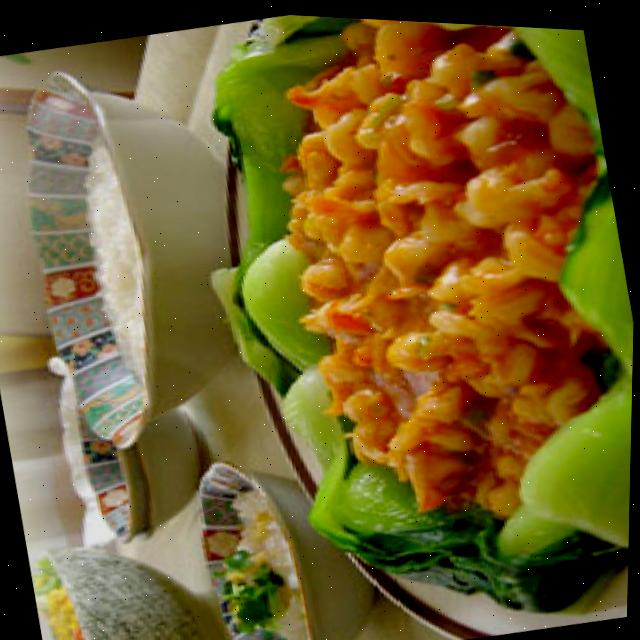熟制海鲜: (174, 8, 640, 640)
